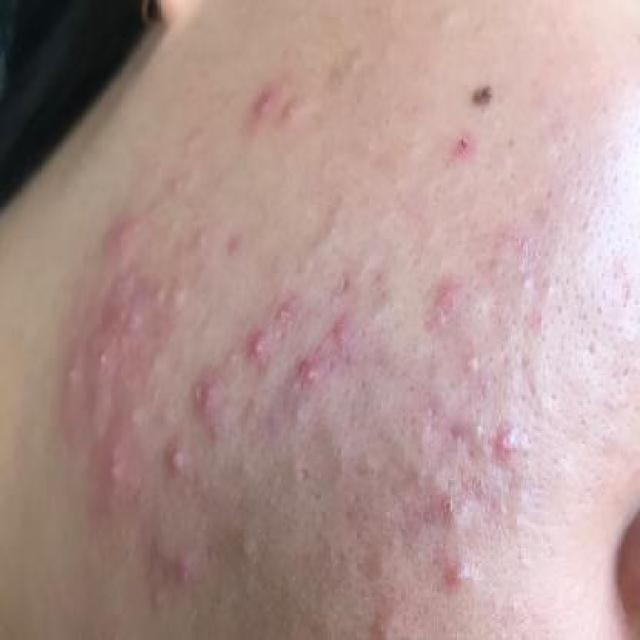acne: (184, 367, 244, 422), (489, 407, 531, 478), (276, 88, 318, 150), (440, 542, 483, 598), (249, 83, 288, 139), (154, 433, 200, 480), (164, 542, 204, 596), (443, 118, 486, 168), (429, 482, 474, 527), (224, 524, 270, 566), (237, 322, 274, 373), (294, 354, 336, 394), (97, 454, 134, 494), (164, 270, 194, 310), (118, 390, 144, 436), (284, 399, 316, 429), (86, 343, 119, 367), (516, 268, 538, 298)
